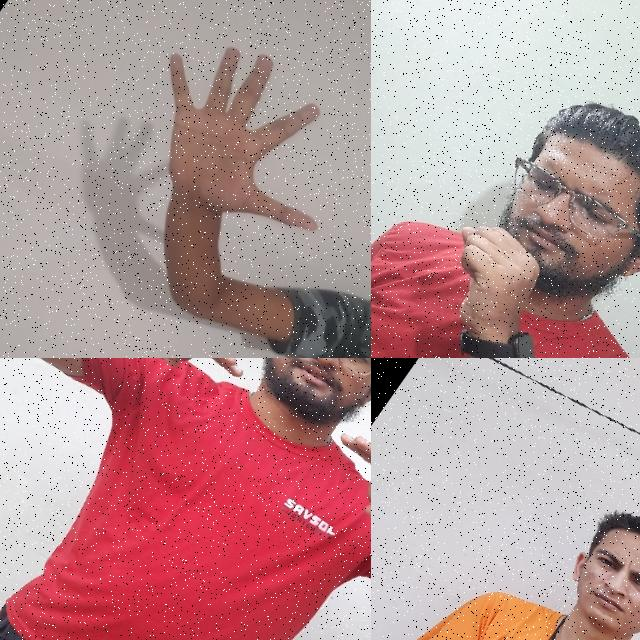Fist Mouth: (396, 71, 640, 358)
Moutza: (89, 2, 371, 299)
Okay: (60, 358, 268, 416), (307, 414, 371, 566)
